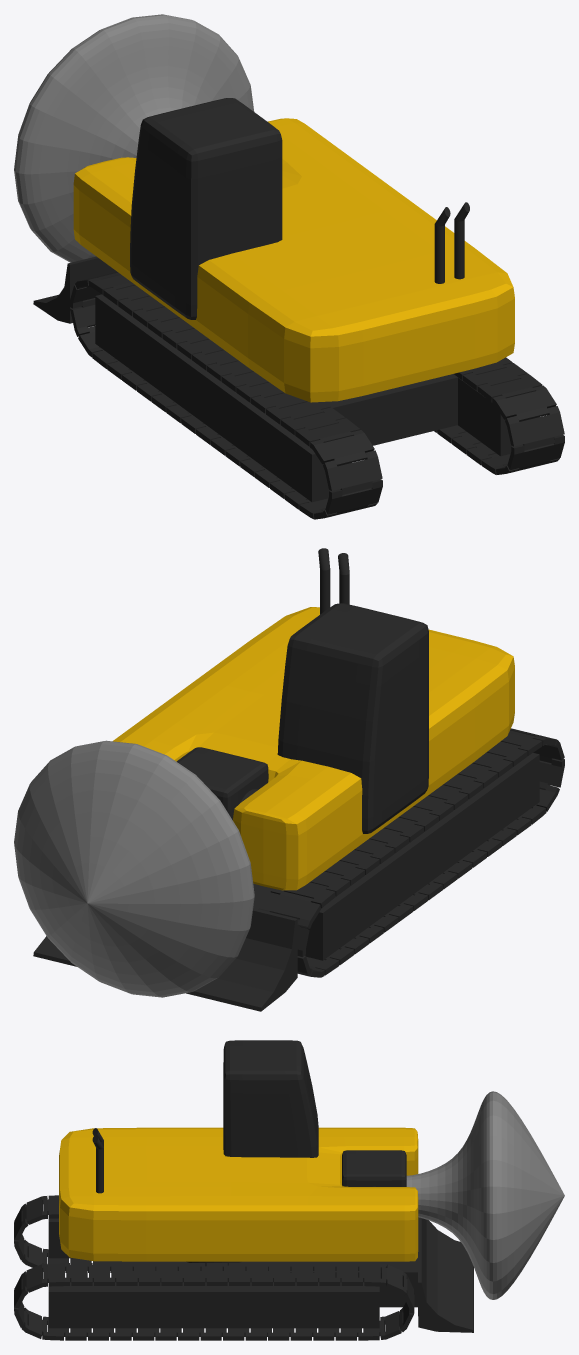
Rendered from digger_v3.glb.
3 views of the same model, one above another, from view 1: azimuth 30°, elevation 25°; view 2: azimuth 150°, elevation 25°; view 3: azimuth 270°, elevation 25° (orthographic). The views are drawn at different scales.
Visible parts, largest first — view 1: engine_base, drill_profile, cabin, chassis, static_track_l, static_track_r, low_shovel, exhaust1, exhaust2; view 2: drill_profile, engine_base, cabin, static_track_l, chassis, low_shovel, drill_bearing, exhaust1; view 3: engine_base, drill_profile, chassis, static_track_r, cabin, low_shovel, drill_bearing, static_track_l, shovel_attachment, exhaust1.
Boxes of the visible parts, bbox=[...] form: engine_base: bbox=[73, 118, 514, 402]; drill_profile: bbox=[14, 14, 254, 262]; cabin: bbox=[130, 98, 282, 319]; chassis: bbox=[95, 294, 539, 502]; static_track_l: bbox=[70, 272, 382, 519]; static_track_r: bbox=[434, 357, 564, 474]; low_shovel: bbox=[33, 256, 116, 323]; exhaust1: bbox=[454, 202, 469, 279]; exhaust2: bbox=[434, 207, 450, 283]; drill_profile: bbox=[14, 740, 254, 997]; engine_base: bbox=[113, 607, 514, 890]; cabin: bbox=[277, 603, 428, 833]; static_track_l: bbox=[259, 728, 564, 977]; chassis: bbox=[300, 753, 539, 960]; low_shovel: bbox=[33, 908, 297, 1011]; drill_bearing: bbox=[176, 747, 268, 820]; exhaust1: bbox=[318, 548, 330, 614]; engine_base: bbox=[59, 1127, 418, 1261]; drill_profile: bbox=[406, 1091, 564, 1299]; chassis: bbox=[48, 1217, 379, 1328]; static_track_r: bbox=[14, 1263, 414, 1340]; cabin: bbox=[223, 1040, 318, 1157]; low_shovel: bbox=[418, 1217, 473, 1332]; drill_bearing: bbox=[342, 1150, 406, 1186]; static_track_l: bbox=[14, 1195, 113, 1272]; shovel_attachment: bbox=[282, 1258, 417, 1307]; exhaust1: bbox=[92, 1135, 103, 1193].
Size of the model in its own units: 2.11 by 2.36 by 5.5.
